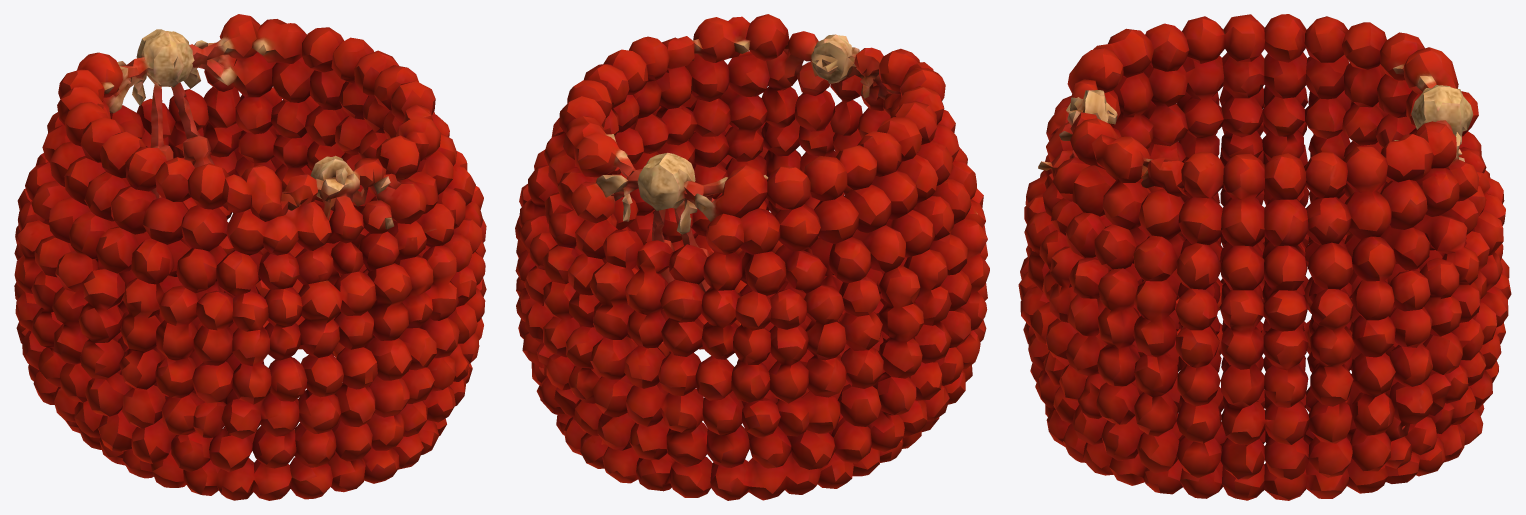
Rendered from coral_beads.glb.
3 views of the same model, side by side, from view 1: azimuth 30°, elevation 25°; view 2: azimuth 150°, elevation 25°; view 3: azimuth 270°, elevation 25° (orthographic). The views are drawn at different scales.
Visible parts, largest first — view 1: geometry_0; view 2: geometry_0; view 3: geometry_0.
Boxes of the visible parts, x1=… form: geometry_0: x1=14, y1=14, x2=486, y2=500; geometry_0: x1=515, y1=14, x2=989, y2=500; geometry_0: x1=1018, y1=14, x2=1511, y2=500.
Bounding box in the file's own units: 0.18 × 0.138 × 0.1787.
Materials: 1 (1 with a texture image).
